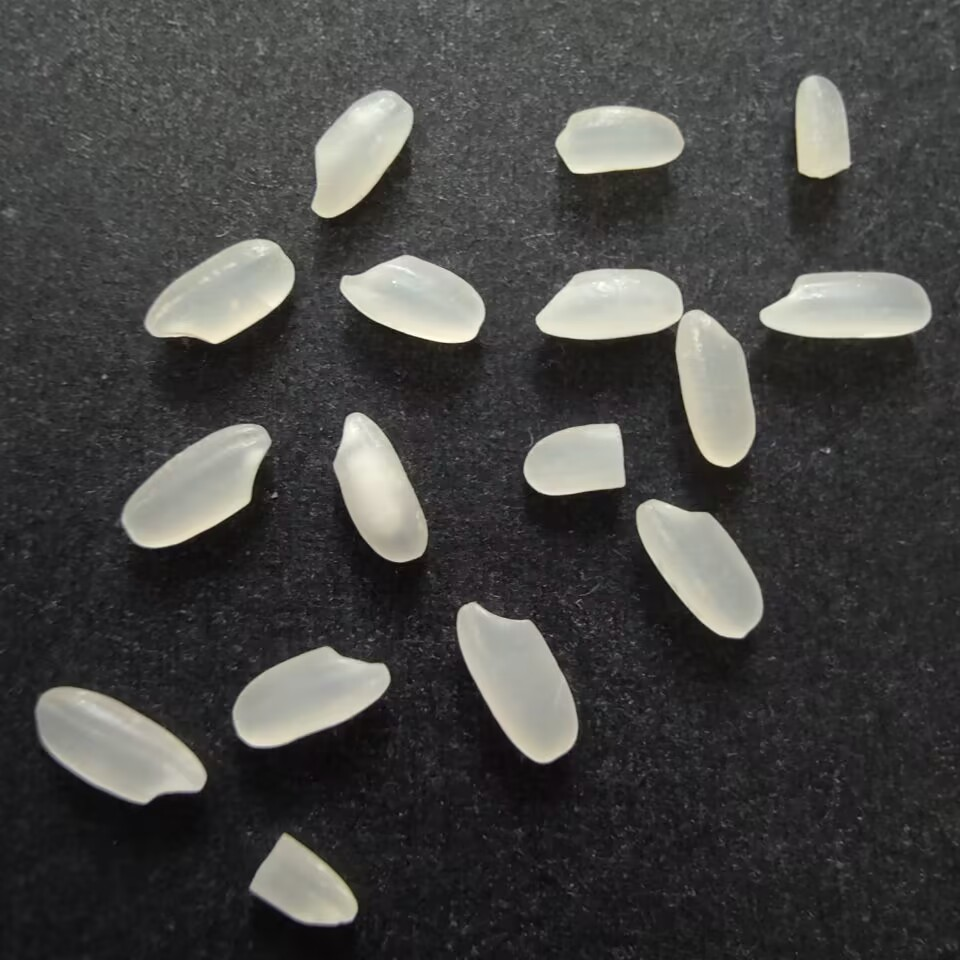broken: (246, 829, 363, 933), (551, 100, 686, 179), (520, 418, 628, 500), (789, 72, 857, 181)
rice: (30, 685, 210, 811), (456, 598, 584, 768), (116, 418, 273, 553), (633, 494, 766, 646), (134, 236, 296, 351), (230, 642, 393, 750), (331, 407, 429, 567), (302, 87, 419, 220), (334, 252, 485, 350), (672, 308, 760, 469), (758, 268, 933, 346), (528, 262, 685, 344)
